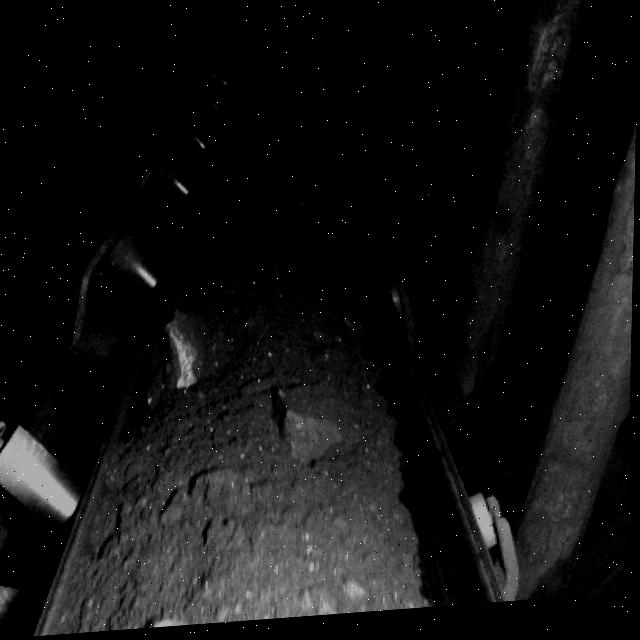large_sized_coal: (279, 390, 342, 466), (167, 306, 215, 402)
